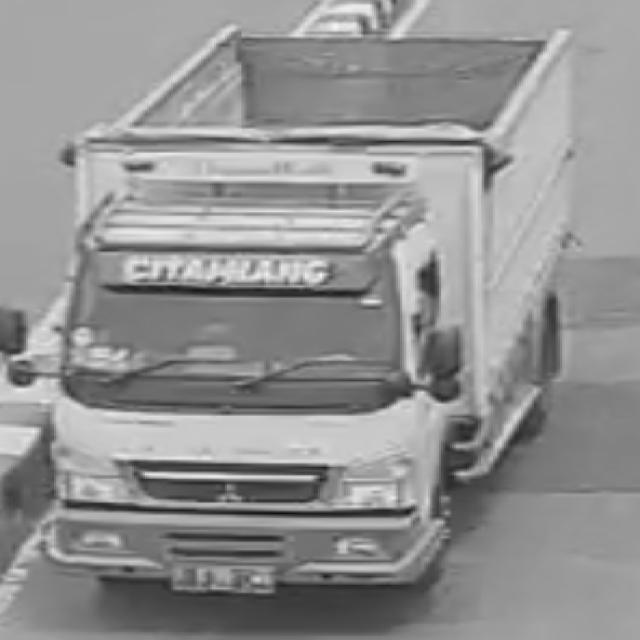Truck: (38, 35, 585, 605)
